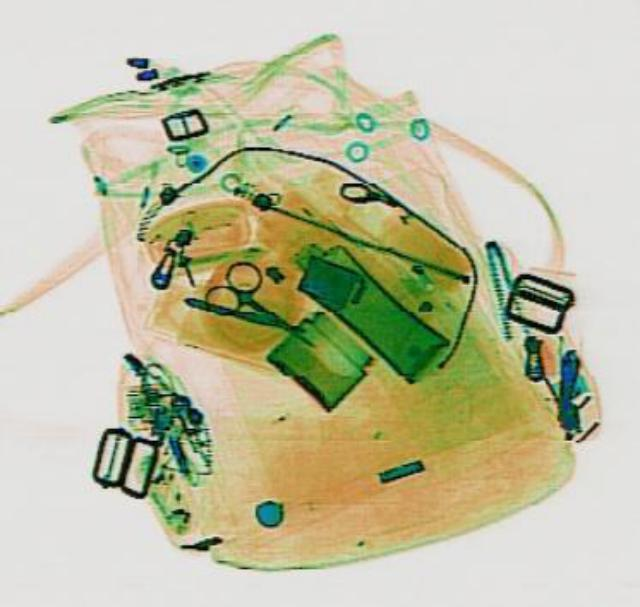Scissors: (194, 251, 332, 366)
